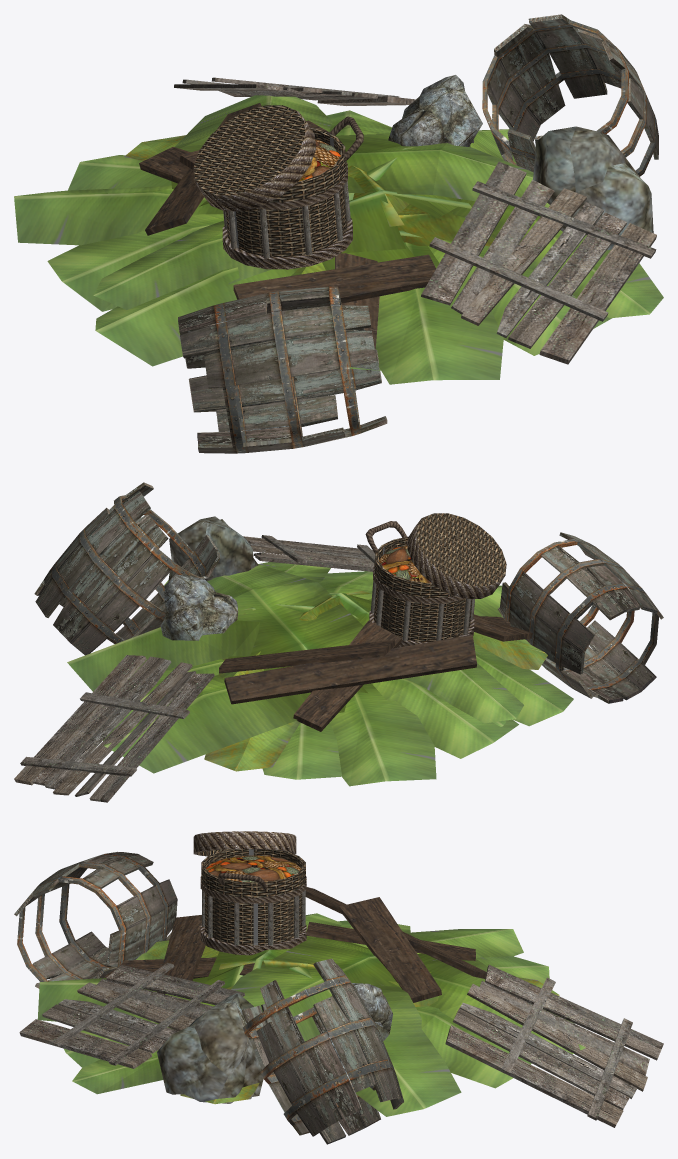
The model's file is props_garbage_03_lod_00.FBX.
The picture shows the model from 3 angles, top to bottom: view 1: azimuth 30°, elevation 25°; view 2: azimuth 150°, elevation 25°; view 3: azimuth 270°, elevation 25°; orthographic projection. The views are drawn at different scales.
Parts seen in each view (by area): view 1: props_garbage_03_lod_00; view 2: props_garbage_03_lod_00; view 3: props_garbage_03_lod_00.
Boxes of the visible parts, bbox=[...] form: props_garbage_03_lod_00: bbox=[14, 14, 663, 453]; props_garbage_03_lod_00: bbox=[14, 482, 663, 802]; props_garbage_03_lod_00: bbox=[14, 831, 663, 1144].
Bounding box in the file's own units: 416 × 155 × 467.
